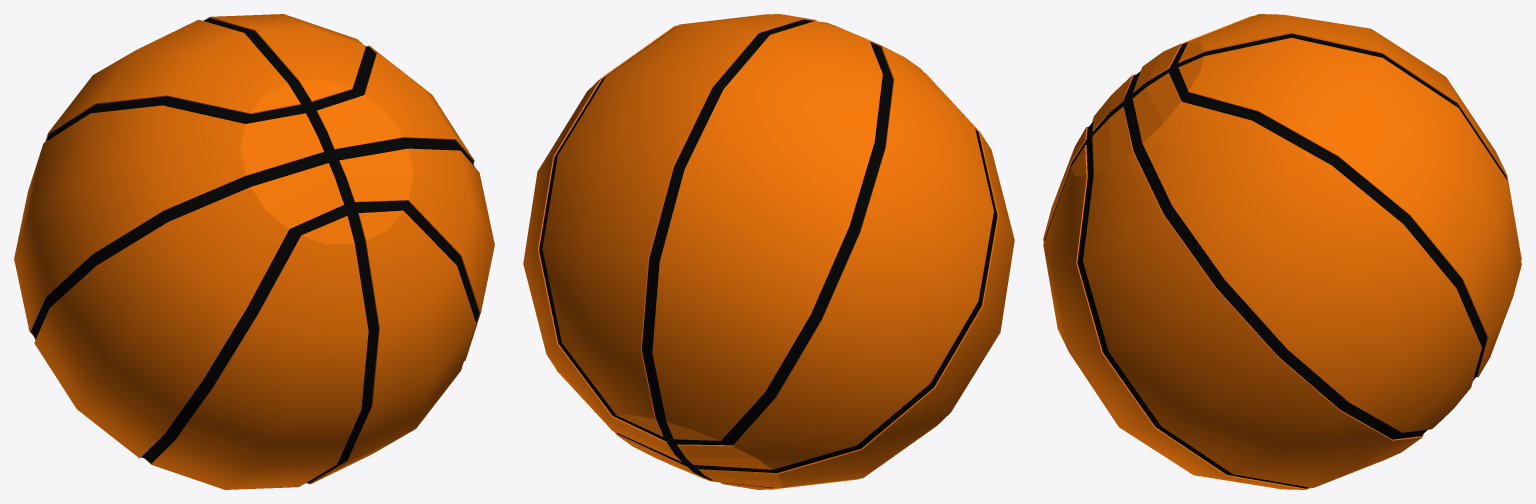
Rendered from ball.FBX.
The picture shows the model from 3 angles, left to right: view 1: azimuth 30°, elevation 25°; view 2: azimuth 150°, elevation 25°; view 3: azimuth 270°, elevation 25°; orthographic projection. The views are drawn at different scales.
Parts seen in each view (by area): view 1: Sphere01; view 2: Sphere01; view 3: Sphere01.
Part boxes in pixels (x1,y1,x2,y2): Sphere01: [14, 14, 494, 489]; Sphere01: [523, 14, 1014, 489]; Sphere01: [1043, 14, 1521, 489].
Bounding box in the file's own units: 60.49 × 60.55 × 60.53.
